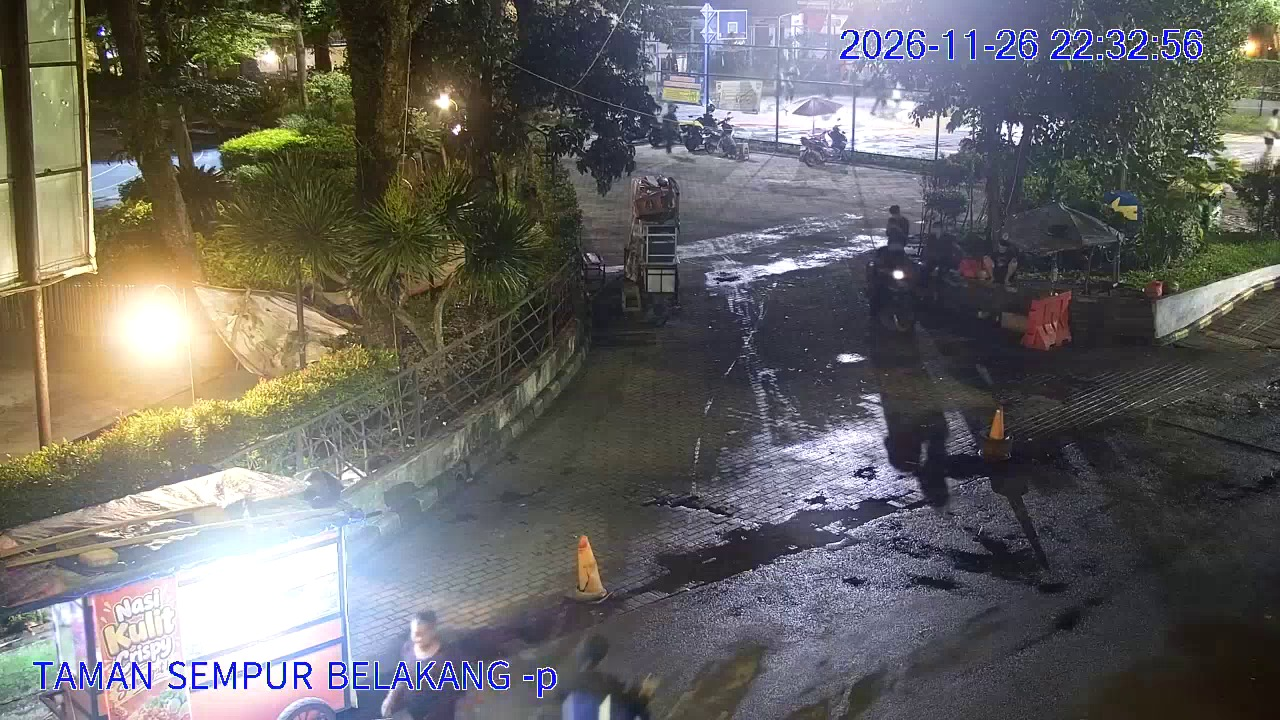Gerobak: (0, 479, 355, 720)
